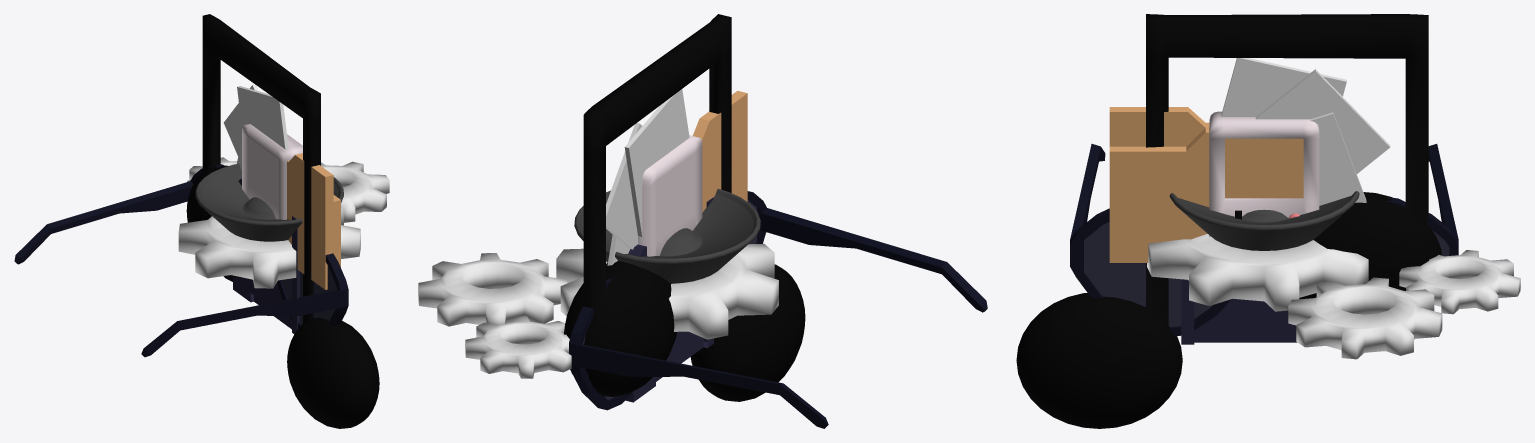
The model's file is miniObjects.glb.
3 views of the same model, side by side, from view 1: azimuth 30°, elevation 25°; view 2: azimuth 150°, elevation 25°; view 3: azimuth 270°, elevation 25° (orthographic). The views are drawn at different scales.
Visible parts, largest first — view 1: Music, Settings, File, Glasses, Sound, SimpleBoy, Save; view 2: Music, Settings, Glasses, File, Sound, SimpleBoy, Save; view 3: Music, File, Settings, Glasses, SimpleBoy, Sound, Save.
Part boxes in pixels (x1=…): Music: x1=186, y1=14, x2=379, y2=428; Settings: x1=178, y1=157, x2=389, y2=288; File: x1=223, y1=84, x2=340, y2=289; Glasses: x1=14, y1=164, x2=348, y2=357; Sound: x1=195, y1=163, x2=343, y2=241; SimpleBoy: x1=242, y1=124, x2=302, y2=219; Save: x1=233, y1=178, x2=299, y2=333; Music: x1=564, y1=14, x2=805, y2=401; Settings: x1=418, y1=243, x2=778, y2=378; Glasses: x1=569, y1=191, x2=987, y2=428; File: x1=606, y1=89, x2=747, y2=265; Sound: x1=574, y1=189, x2=760, y2=283; SimpleBoy: x1=638, y1=135, x2=702, y2=256; Save: x1=626, y1=197, x2=713, y2=402; Music: x1=1016, y1=14, x2=1441, y2=428; File: x1=1109, y1=58, x2=1390, y2=262; Settings: x1=1147, y1=234, x2=1520, y2=359; Glasses: x1=1070, y1=144, x2=1458, y2=336; SimpleBoy: x1=1209, y1=111, x2=1319, y2=236; Sound: x1=1169, y1=191, x2=1359, y2=250; Save: x1=1181, y1=279, x2=1296, y2=344.
Size of the model in its own units: 6.17 by 5.42 by 6.06.
